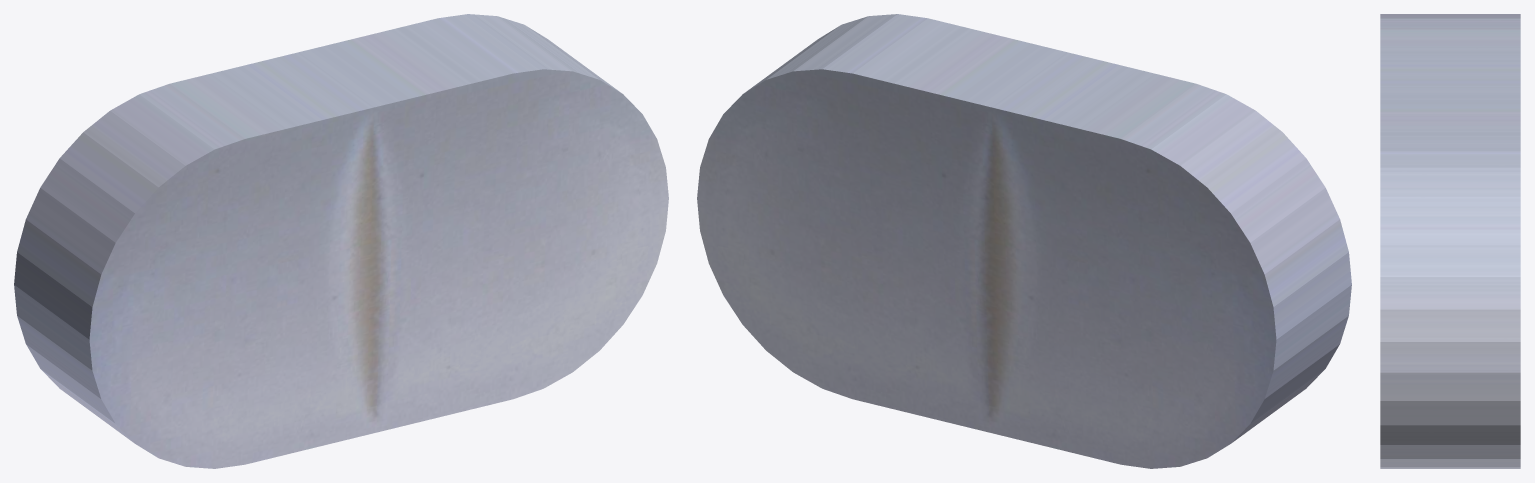
Rendered from 20170929GOPHDRGPT27000.fbx.
3 views of the same model, side by side, from view 1: azimuth 30°, elevation 25°; view 2: azimuth 150°, elevation 25°; view 3: azimuth 270°, elevation 25° (orthographic). The views are drawn at different scales.
Visible parts, largest first — view 1: Cylinder; view 2: Cylinder; view 3: Cylinder.
Boxes of the visible parts, box(x1,y1,x2,y2) form: Cylinder: box(14, 14, 668, 468); Cylinder: box(697, 14, 1351, 468); Cylinder: box(1380, 14, 1520, 468).
Bounding box in the file's own units: 2 × 1.08 × 0.4522.
